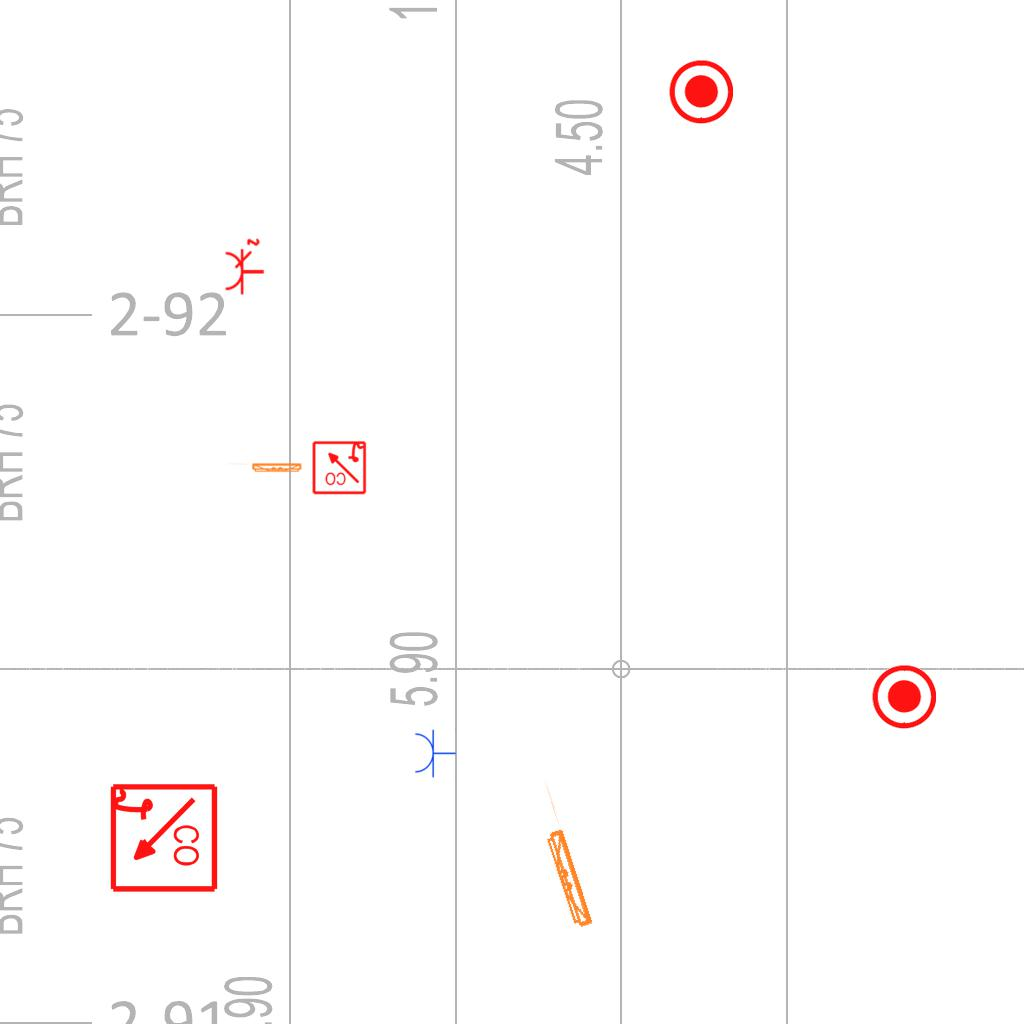ROA_Rauchmelder_optisch_mit_Signalgeber_(Sockelsirene): (106, 782, 219, 895), (311, 439, 367, 495)
Schukosteckdose_einfach: (413, 728, 456, 778)
Schukosteckdose_mehrfach: (223, 237, 267, 297)
Sicherheitsleuchte_Wandeinbau: (524, 776, 597, 935), (225, 462, 304, 474)
Taster: (870, 663, 936, 729), (667, 58, 733, 124)
